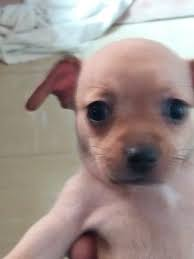chihuahua: (14, 31, 194, 245)
